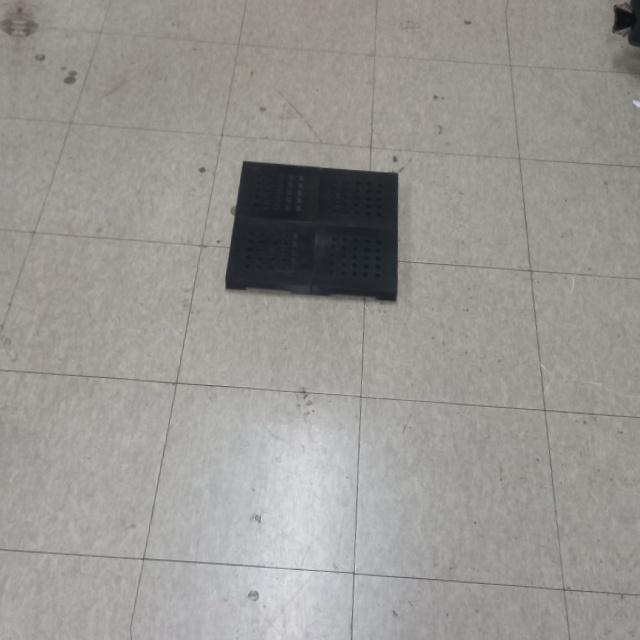pallet: (222, 153, 410, 308)
